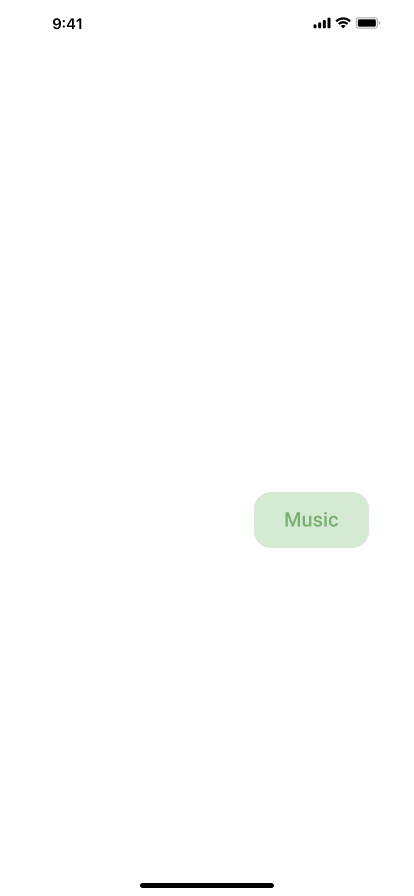Buttons: (254, 492, 377, 548)
Home Indicator: (0, 862, 414, 896)
Status Bar: (0, 0, 414, 44)
